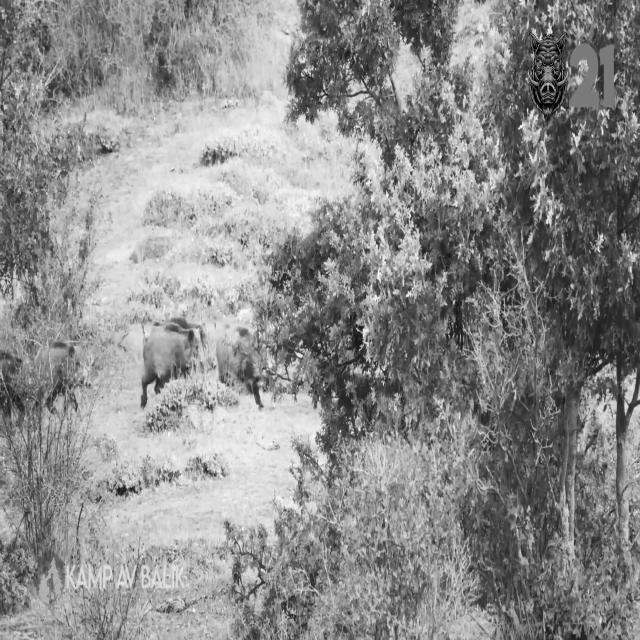boar: (140, 318, 197, 407), (216, 327, 263, 407), (33, 341, 77, 408), (0, 351, 24, 413)
